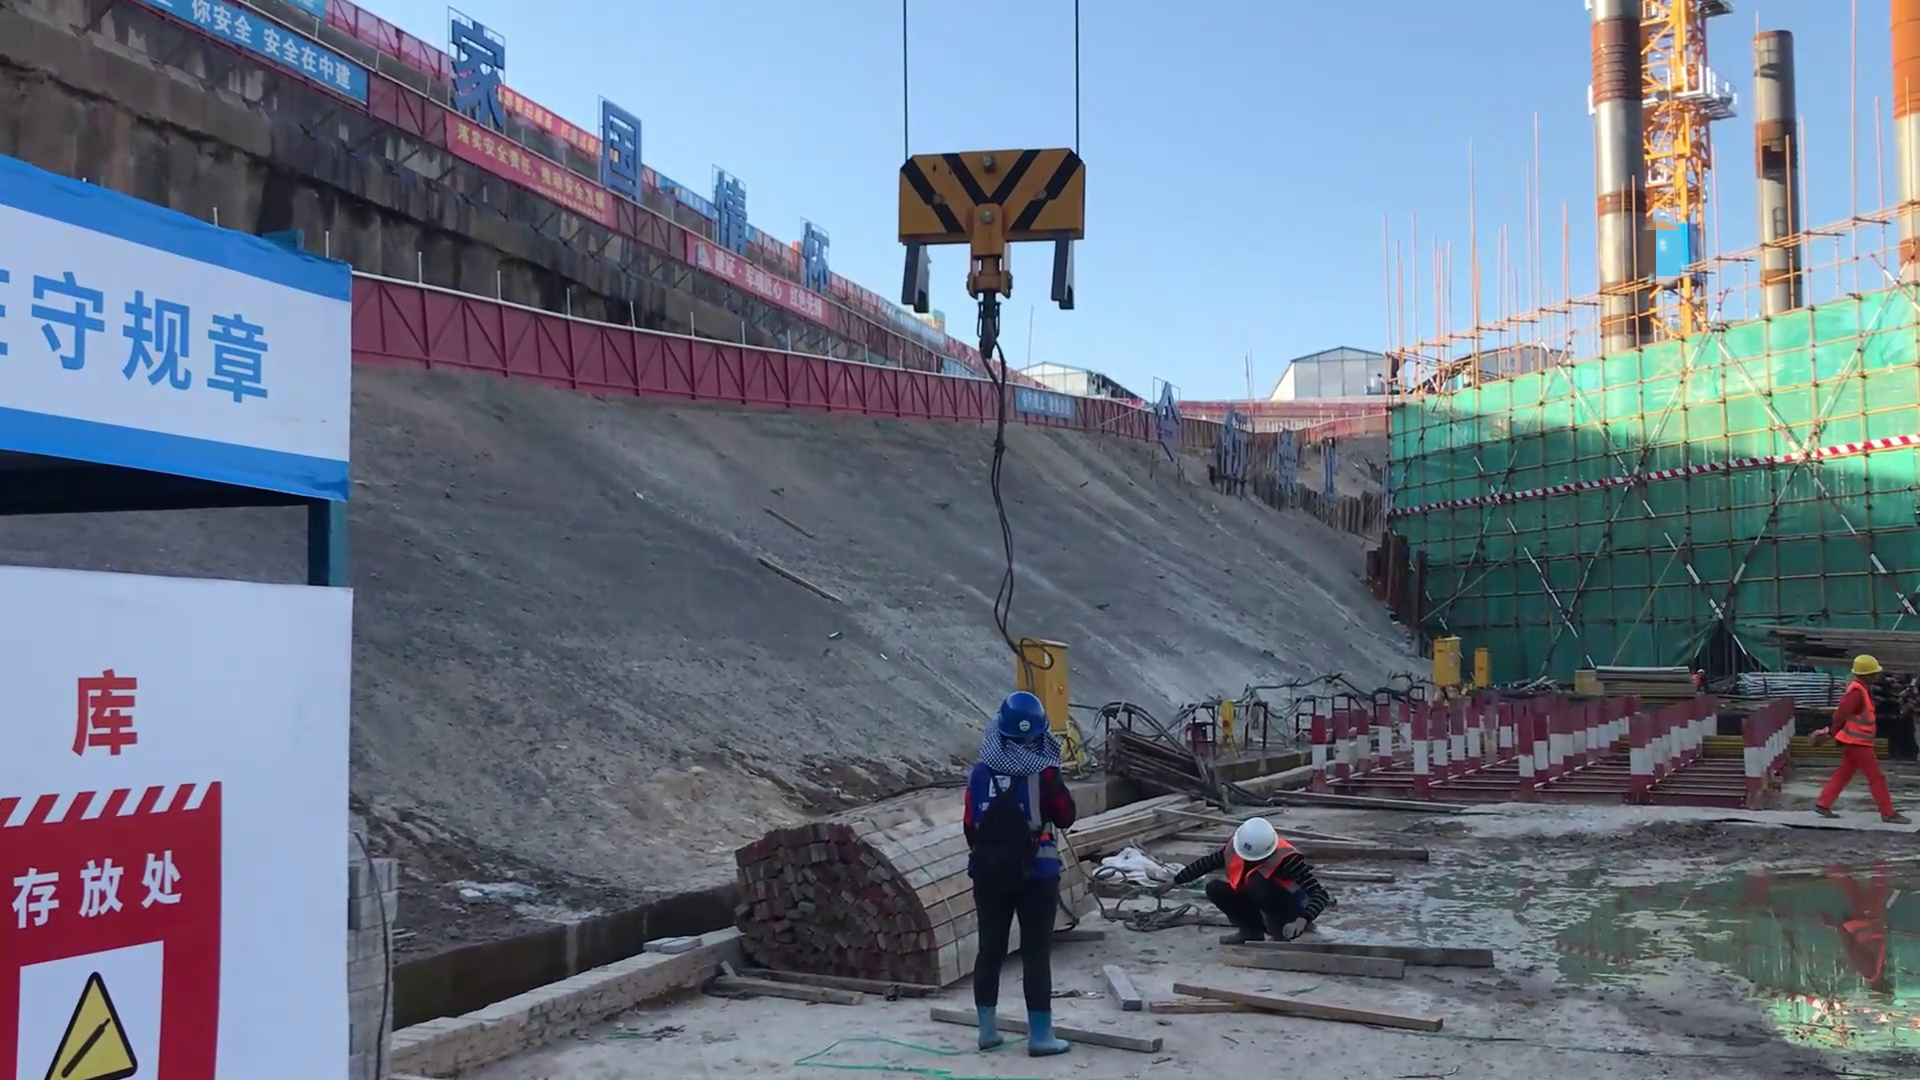ebox: (1014, 633, 1092, 734), (1429, 633, 1469, 696), (1473, 643, 1490, 686)
fence: (349, 285, 807, 412), (810, 361, 1130, 441)
helmet: (979, 694, 1054, 744), (1225, 814, 1271, 860), (1842, 645, 1886, 677)
hook: (888, 137, 1091, 304)
person: (953, 688, 1077, 1056), (1165, 821, 1332, 948), (1812, 652, 1914, 829)
slogan: (1, 270, 319, 467), (136, 1, 378, 155), (423, 107, 630, 267), (6, 920, 195, 1080)
vest: (1835, 679, 1879, 742)
